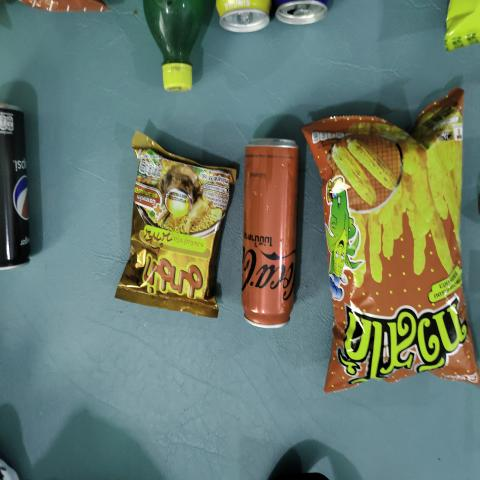coke_red: (240, 136, 302, 332)
mama: (127, 132, 217, 319)
twisco: (325, 125, 471, 375)
